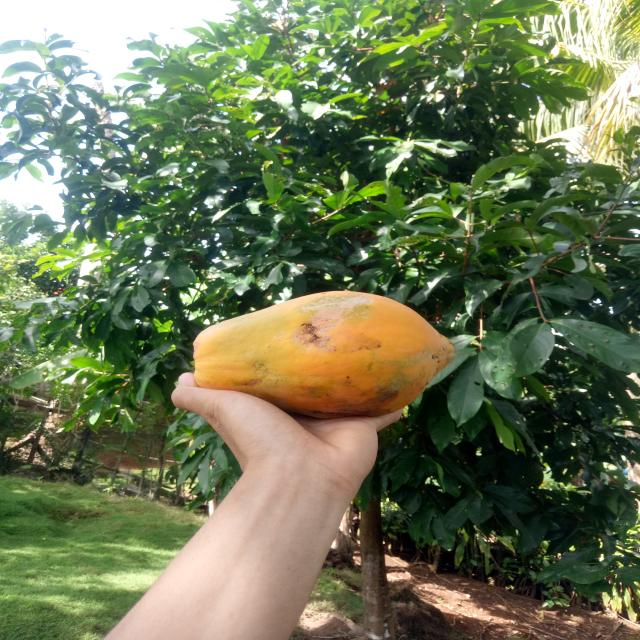Pepaya rippen: (181, 286, 458, 426)
